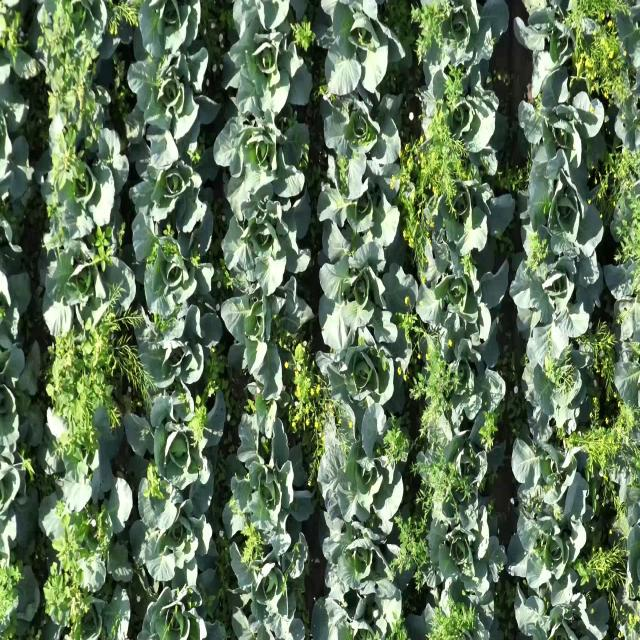holes: (122, 383, 228, 515), (316, 80, 405, 202), (321, 509, 405, 598), (615, 80, 640, 176)
